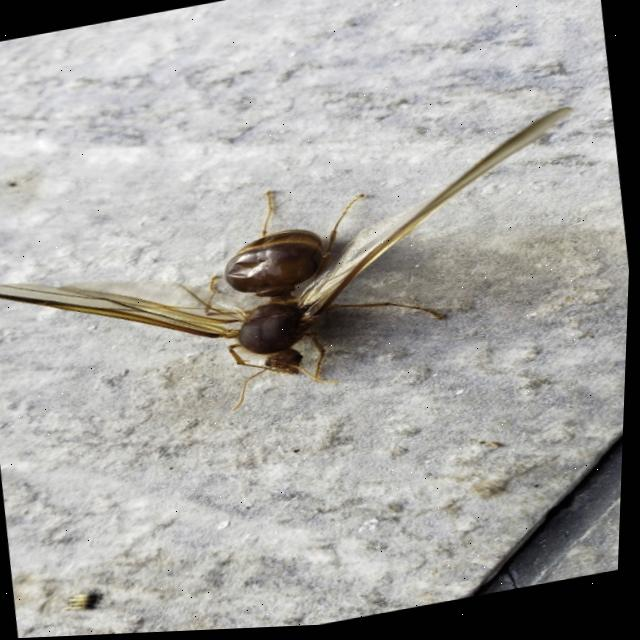Alive-Male-Alate: (0, 109, 610, 455)
